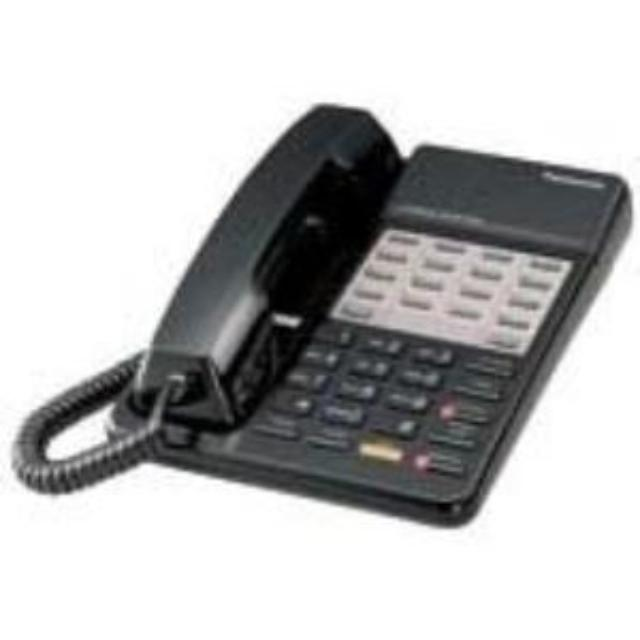Telephone-Set: (3, 96, 634, 536)
